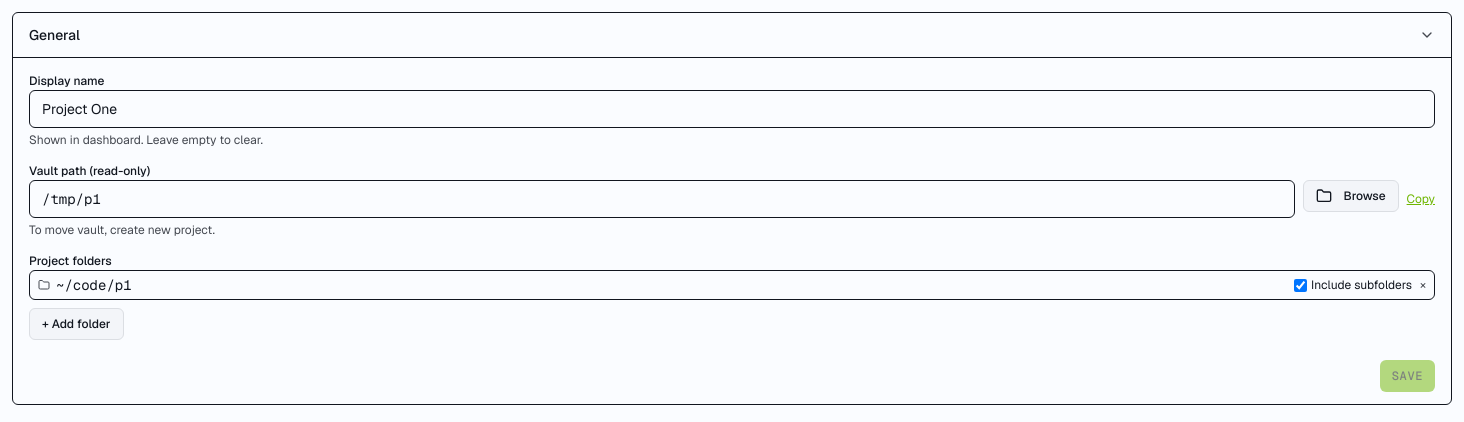
Scenario: GeneralSection › empty display_name → PATCH sends empty string (clear)
Later steps or results of the test are not shown.
Clear the field showing "Project One" below "Display name" at (732, 109), box [29,90,1435,128]
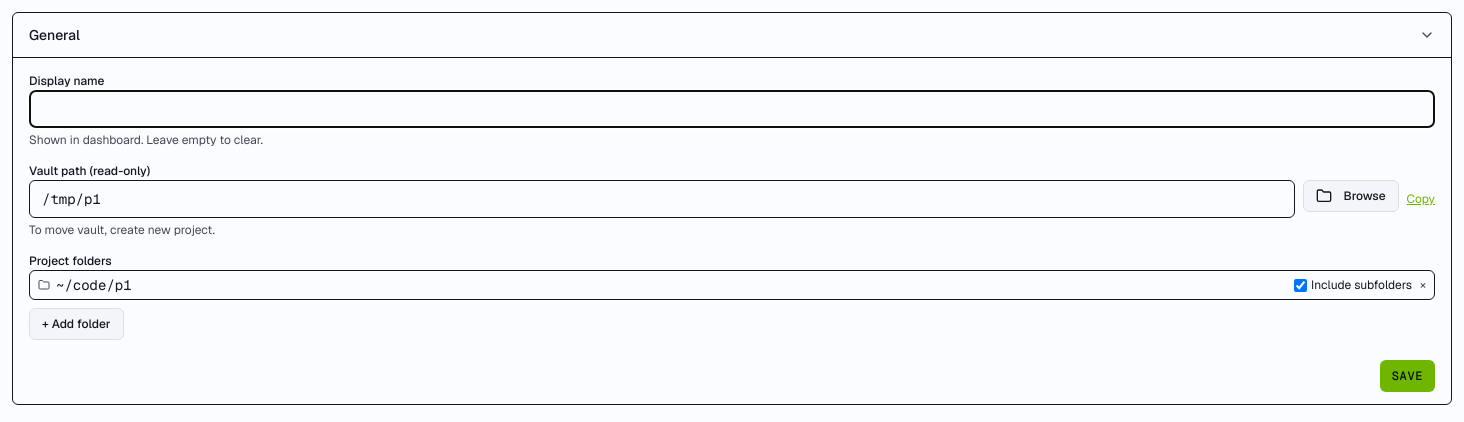
Check: the button "Save" is enabled, box [1380,360,1435,392]
